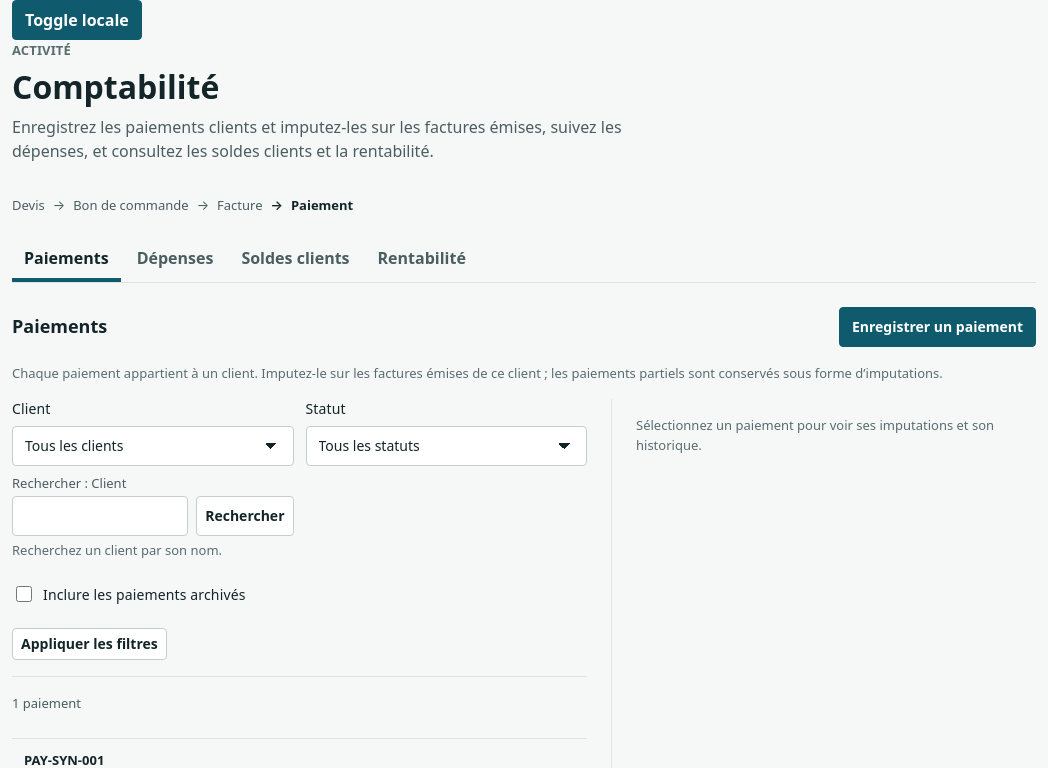
Test: AccountingPanel: presentation and localization › renders the workspace in French with localized area labels
Check: the heading "Comptabilité" is shown, box [12,65,219,108]
Check: the text "1 paiement" is shown, box [12,694,81,712]
Step 1. Click the button "PAY-SYN-001" → [64, 760], box [24,750,104,767]
(page scrolled)
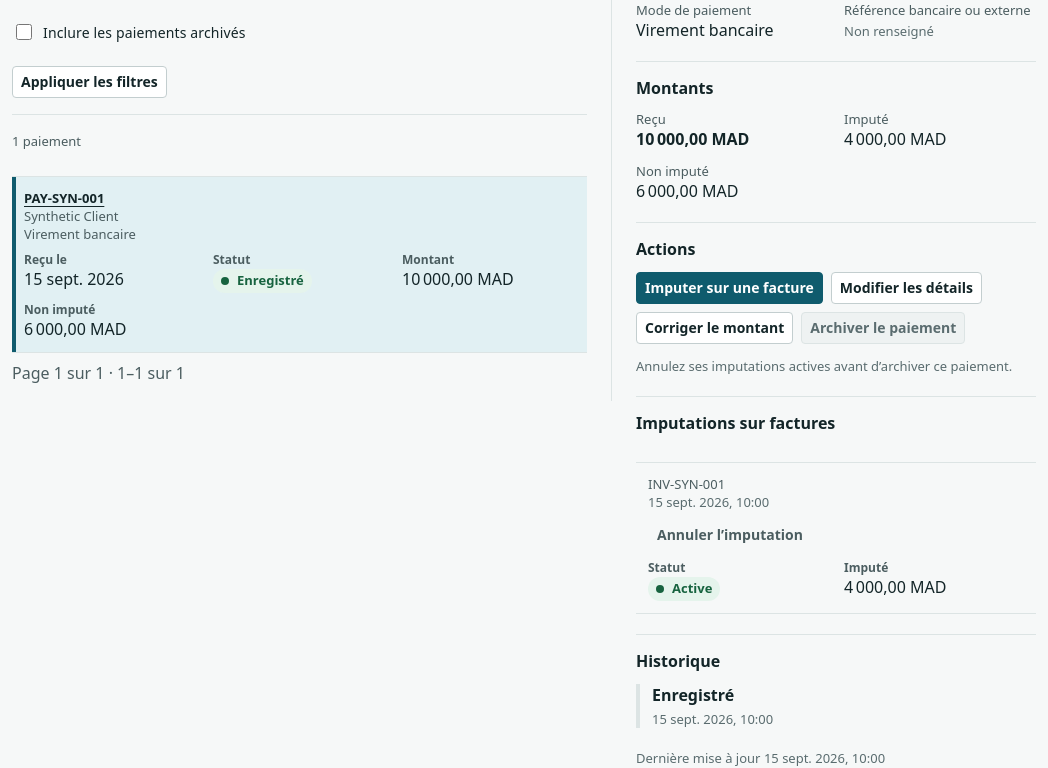
Check: the heading "Imputations sur factures" is shown, box [636,412,835,434]
